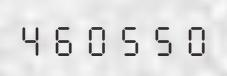five: (114, 20, 145, 56), (146, 20, 177, 56)
four: (17, 20, 48, 56)
six: (49, 20, 80, 56)
zero: (82, 20, 113, 56), (178, 20, 209, 56)
